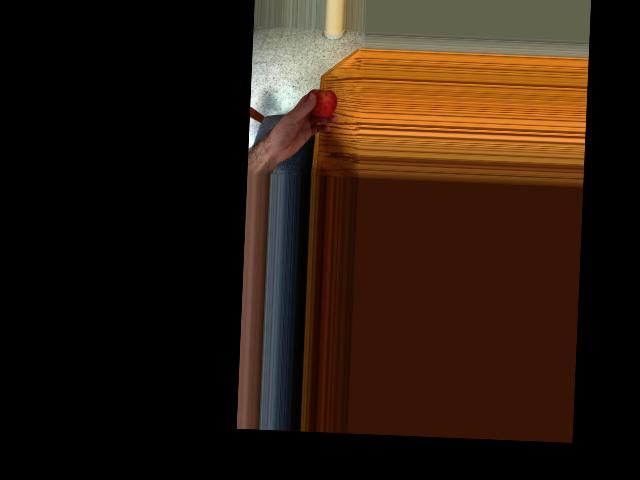apple: (305, 86, 336, 119)
